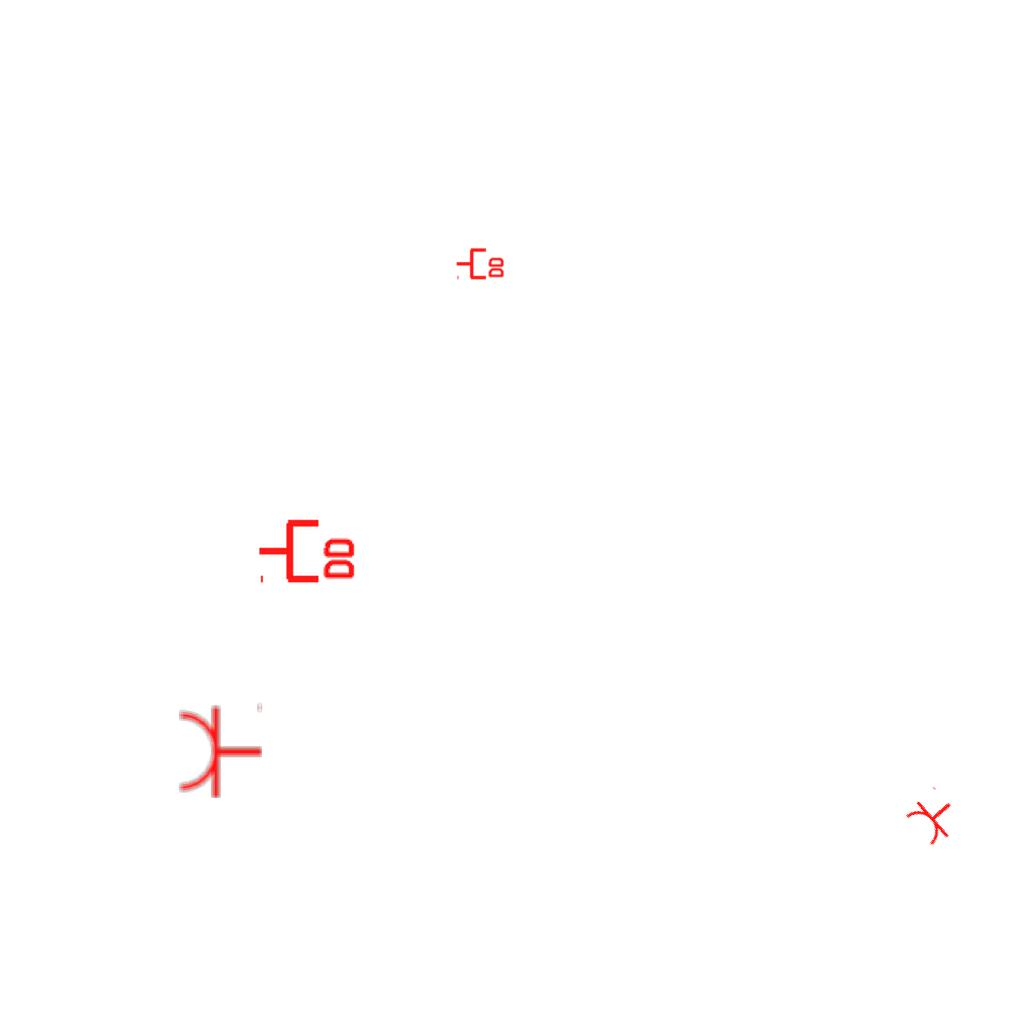Datenanschluss_zweifach: (256, 515, 359, 584), (455, 246, 506, 280)
Schukosteckdose_einfach: (177, 700, 264, 800), (900, 784, 967, 850)
